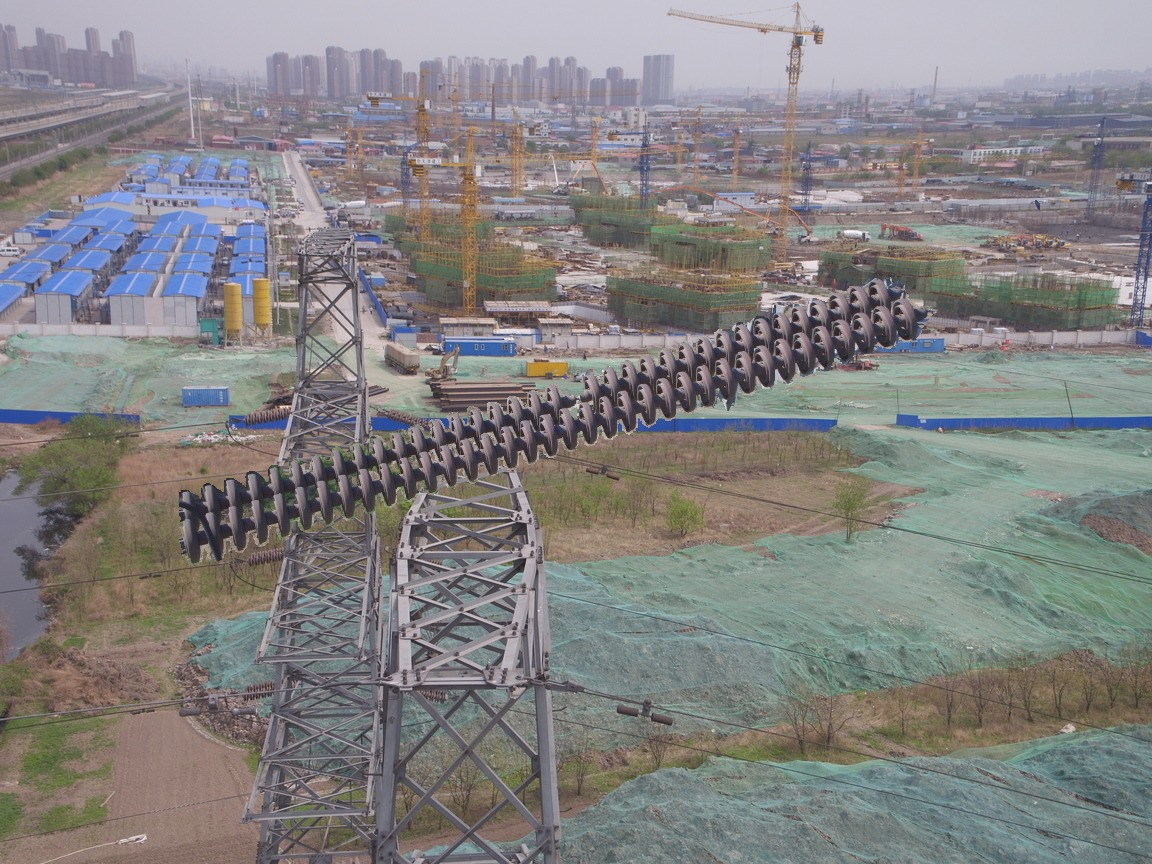defect: (543, 371, 606, 419)
